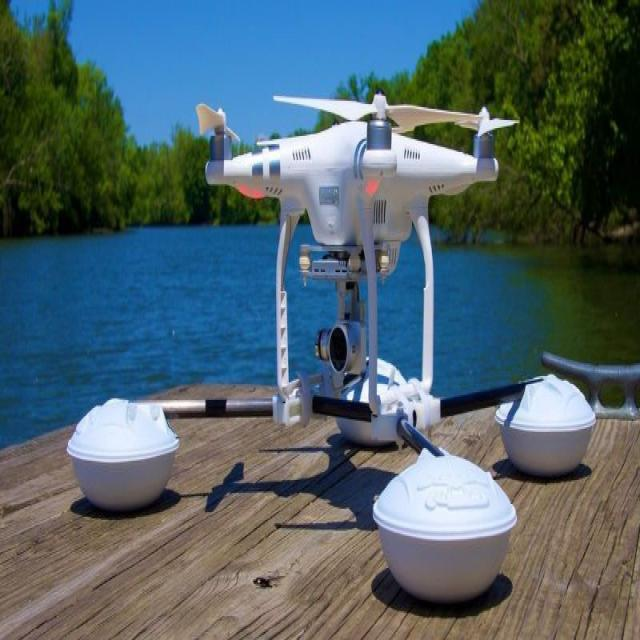drone: (185, 72, 530, 315)
